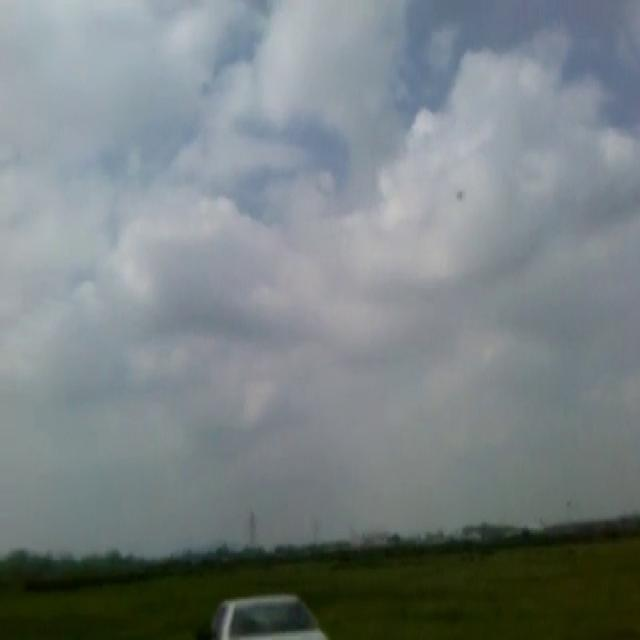drone: (454, 183, 468, 203)
